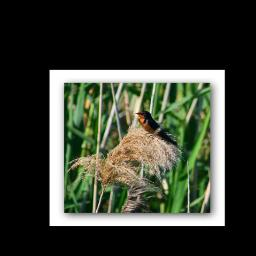Swallow: (133, 109, 183, 150)
